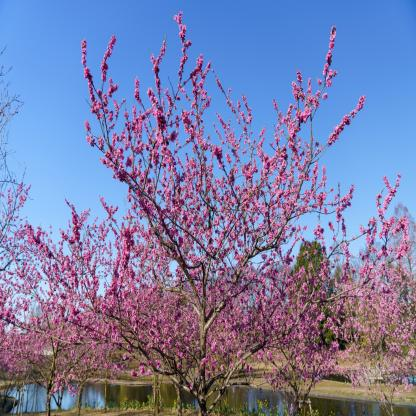Momo: (26, 9, 366, 397), (326, 168, 416, 416), (243, 230, 348, 400), (0, 198, 90, 385)
